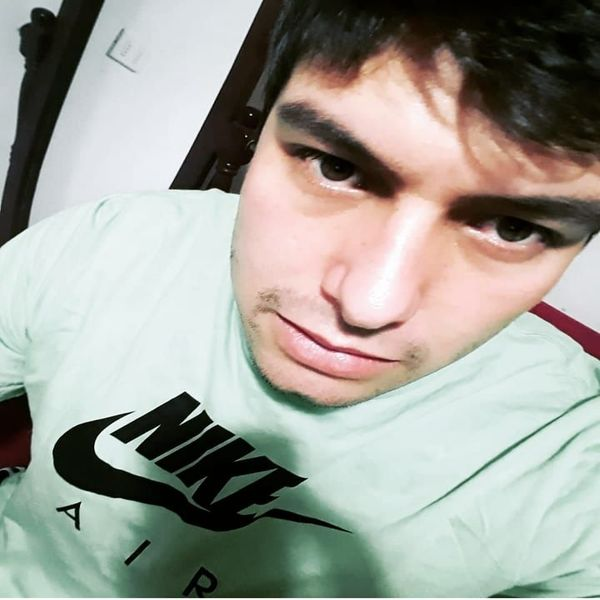nike: (46, 383, 366, 539)
